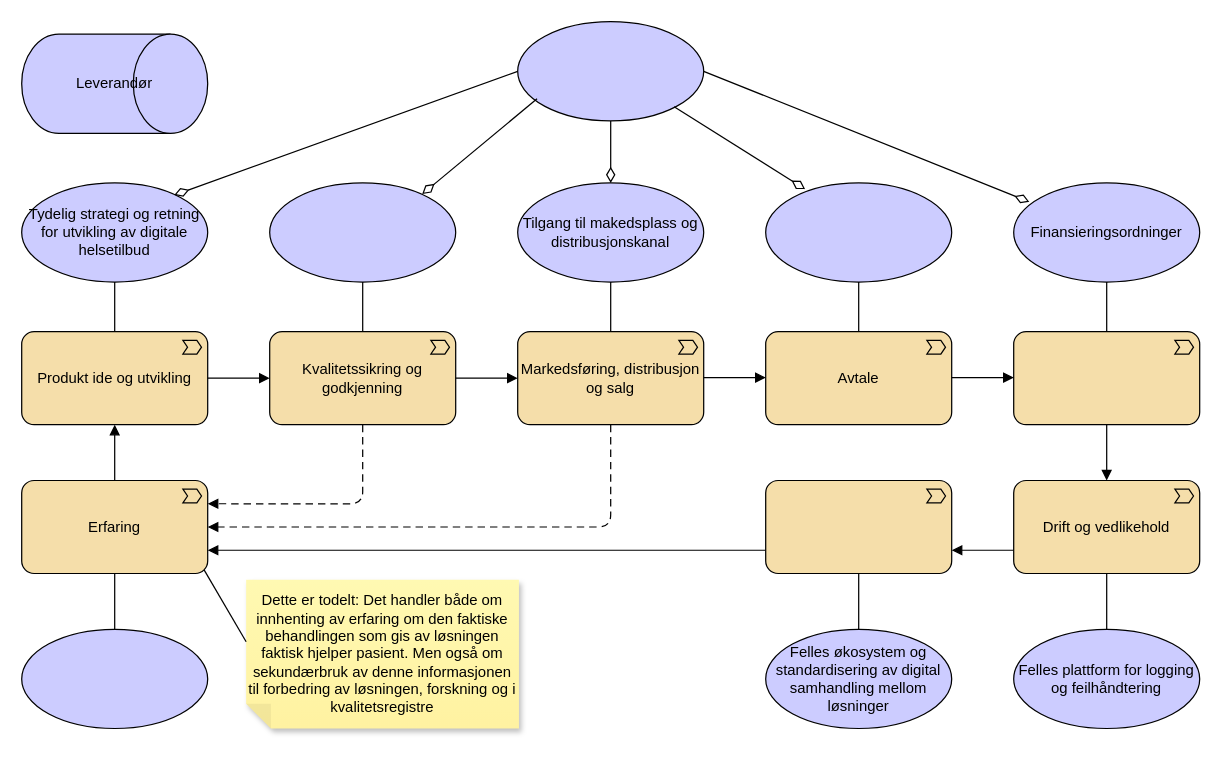
This 1221x759 diagram has some shape labels left out. Each missing label, with the centre of its shape:
"Betaling" belongs at point (1106, 377).
"Felles mekanismer for erfaringsinnhenting og metoder for resultatmåling" belongs at point (114, 678).
"Samhandling med andre løsninger" belongs at point (858, 526).
"Tydelige juridiske rammer for bruk av digitale verktøy" belongs at point (858, 232).
"Tydelige og felles krav til kvalitet og etablert kvalitetssikringsordning" belongs at point (362, 232).
"Tydelige roller og ansvar" belongs at point (610, 70).
